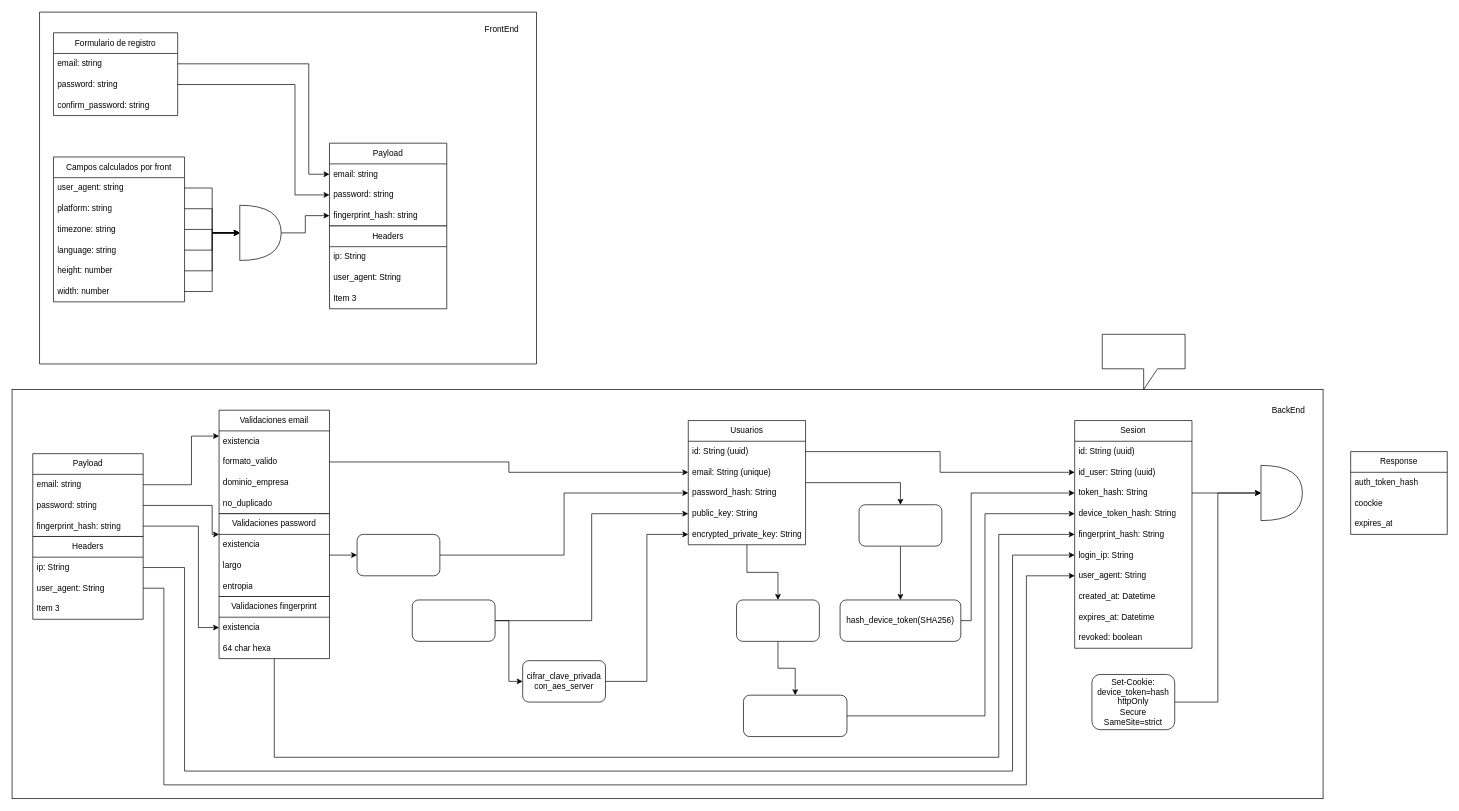
The diagram is 1459 pixels wide and 811 high, and some of its shapes have lost their labels. Here are the shapes that lost their labels. From the top down, the centre of each, then its label:
point 260,232: hash
point 1143,362: Tokens de 5 min
point 1281,493: Res
point 900,525: generar_device_token
point 398,555: calcular_hash
point 453,620: generar_par_claves
point 777,620: generar_auth_token
point 795,715: hash_auth_token(SHA256)
